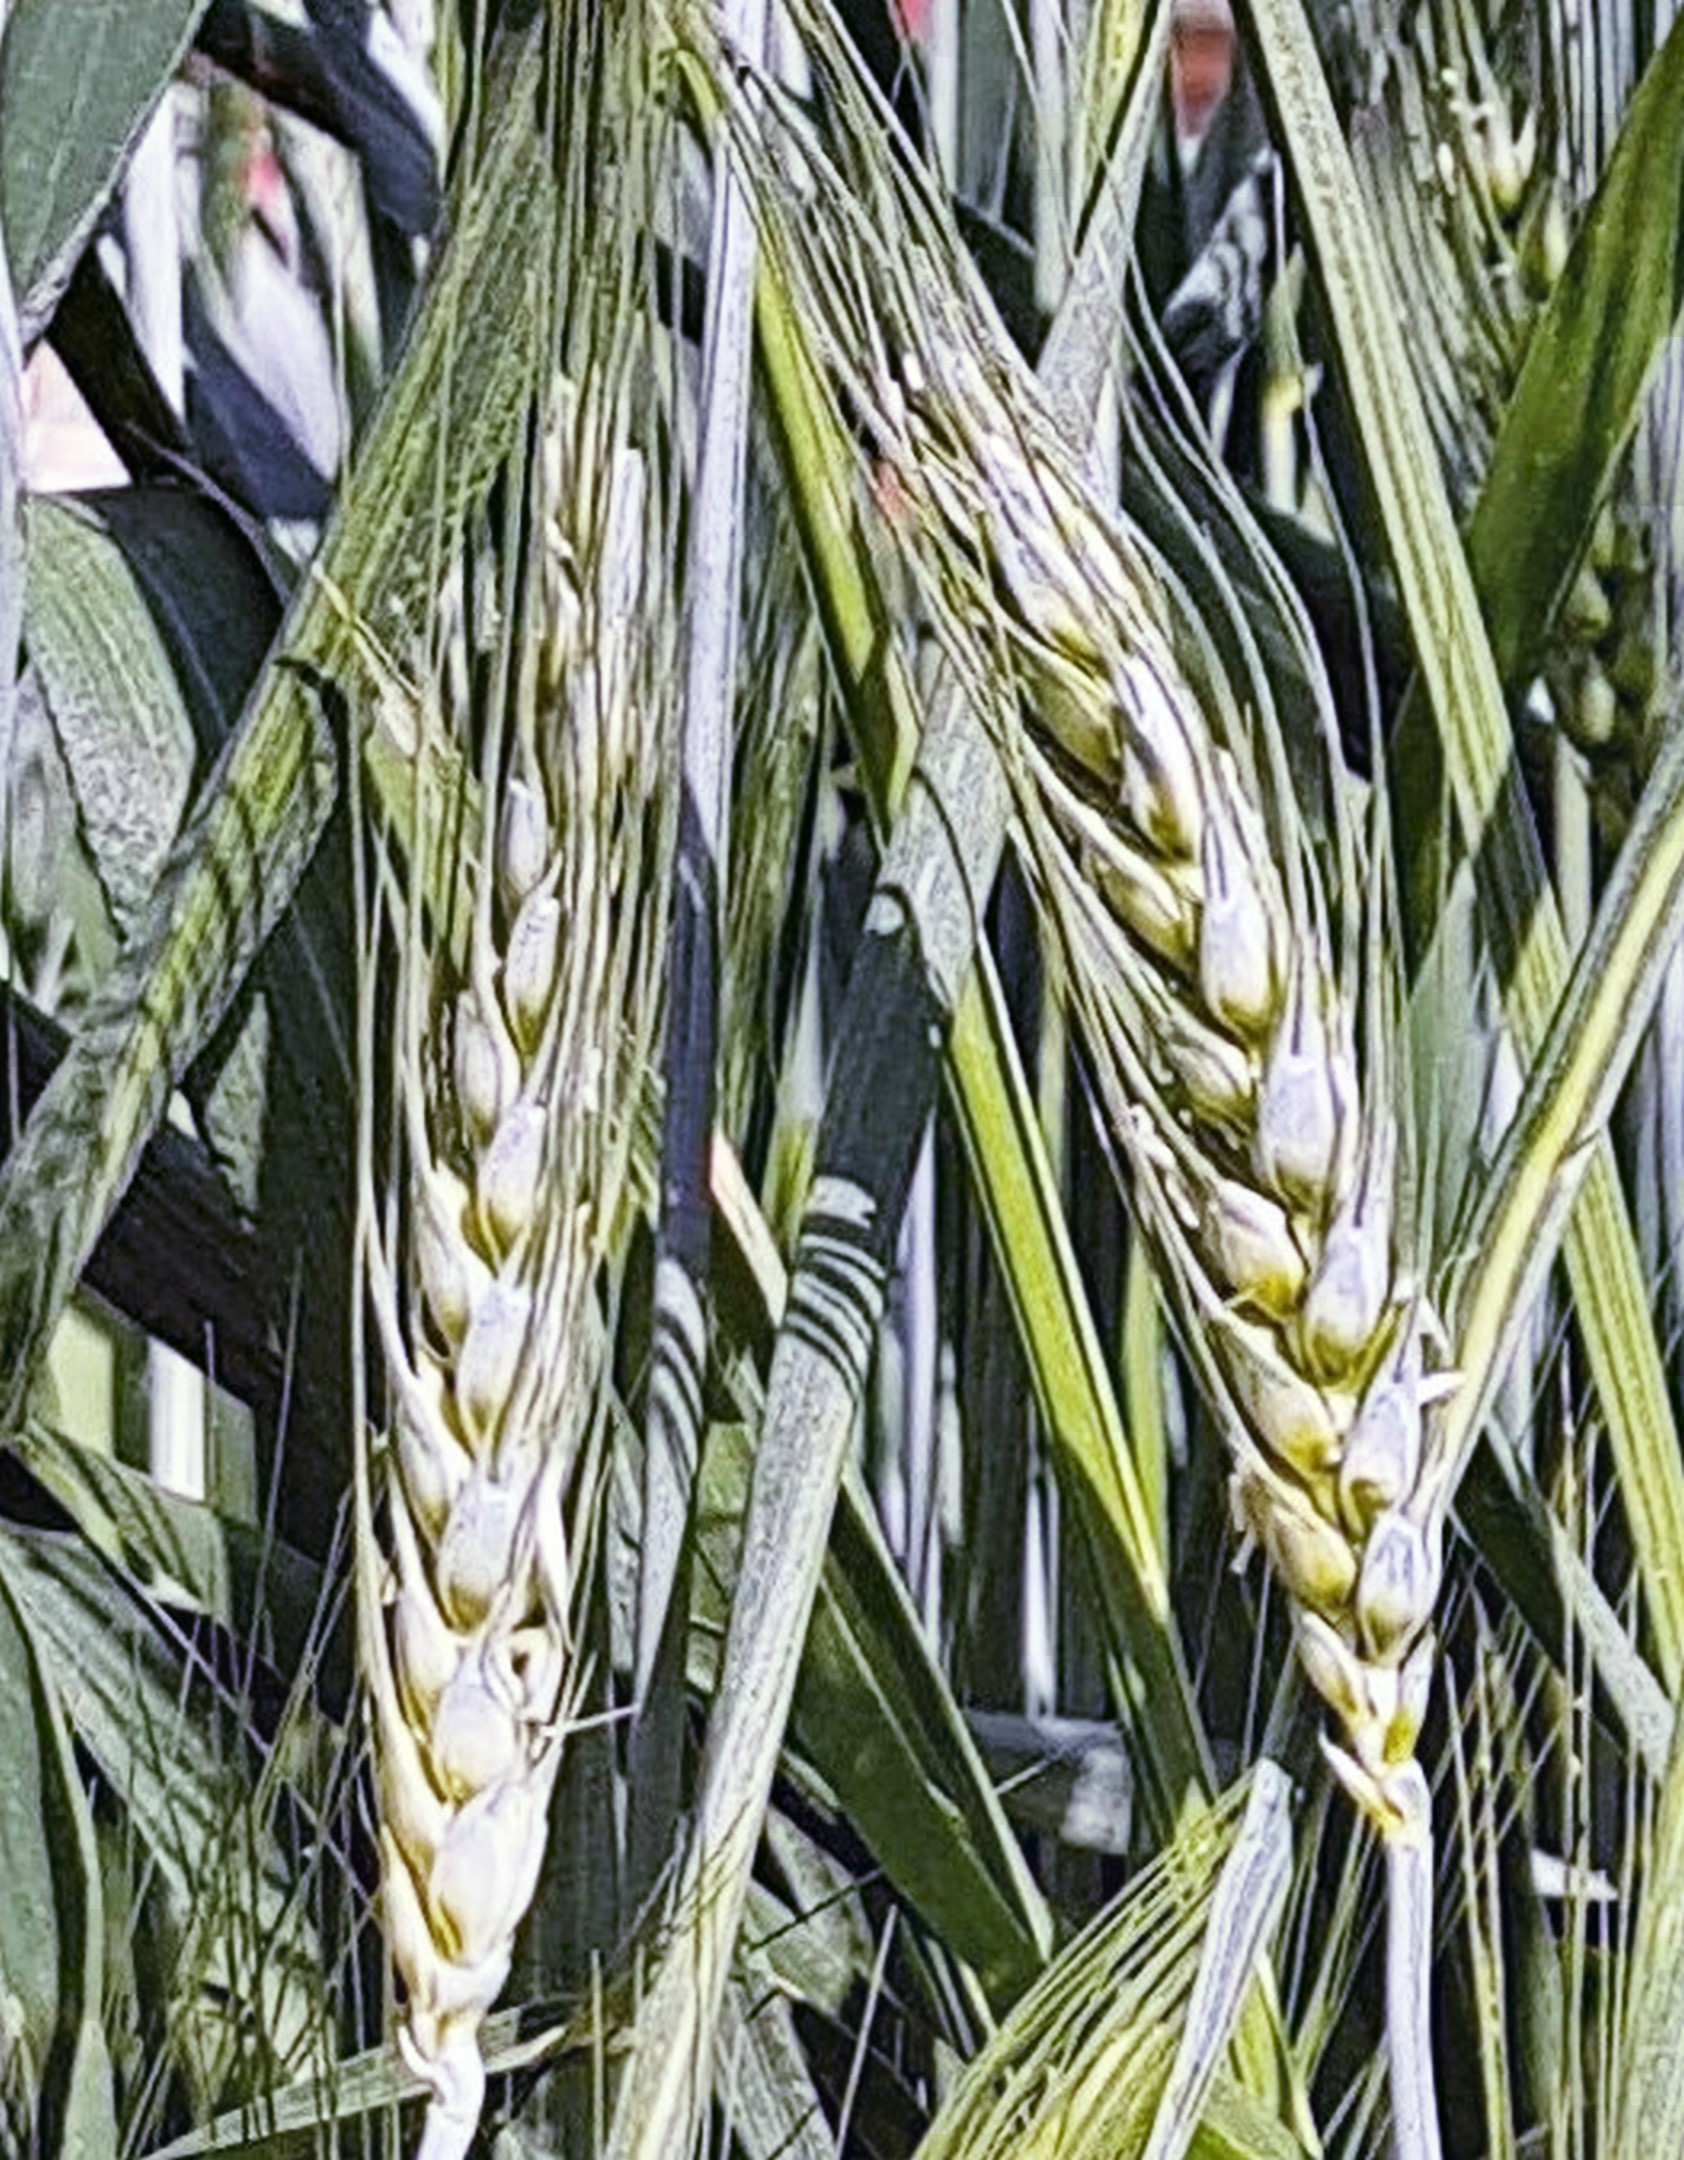Healthy Wheat: (915, 423, 1532, 1709), (301, 510, 736, 1993)
